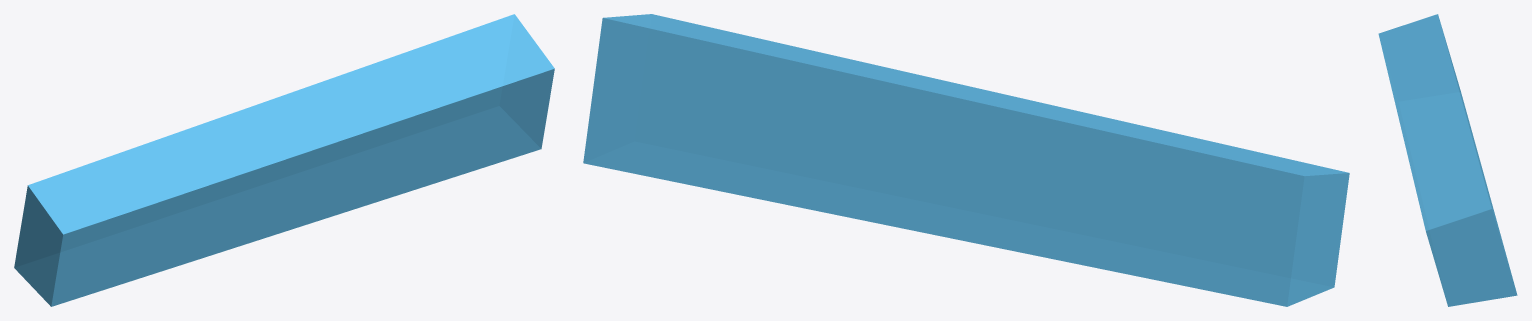
The model's file is Event_421115418_HErechit_97.fbx.
3 views of the same model, side by side, from view 1: azimuth 30°, elevation 25°; view 2: azimuth 150°, elevation 25°; view 3: azimuth 270°, elevation 25° (orthographic). The views are drawn at different scales.
Visible parts, largest first — view 1: Model; view 2: Model; view 3: Model.
Part boxes in pixels (left/top/right/bottom): Model: left=14, top=14, right=554, bottom=306; Model: left=583, top=14, right=1349, bottom=306; Model: left=1378, top=14, right=1517, bottom=306.
Size of the model in its own units: 1.2 by 0.277 by 0.3307.
